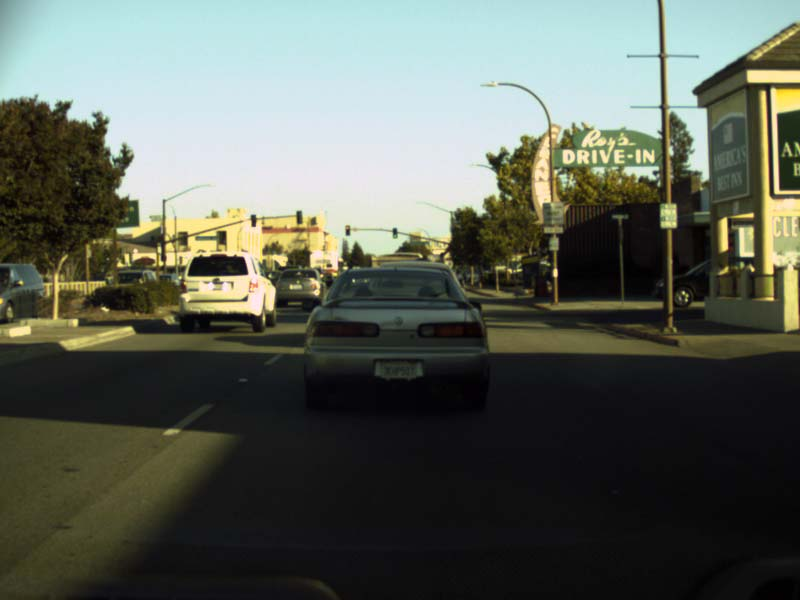Green: (392, 228, 397, 237), (452, 254, 457, 262)
Red: (344, 225, 349, 236)
